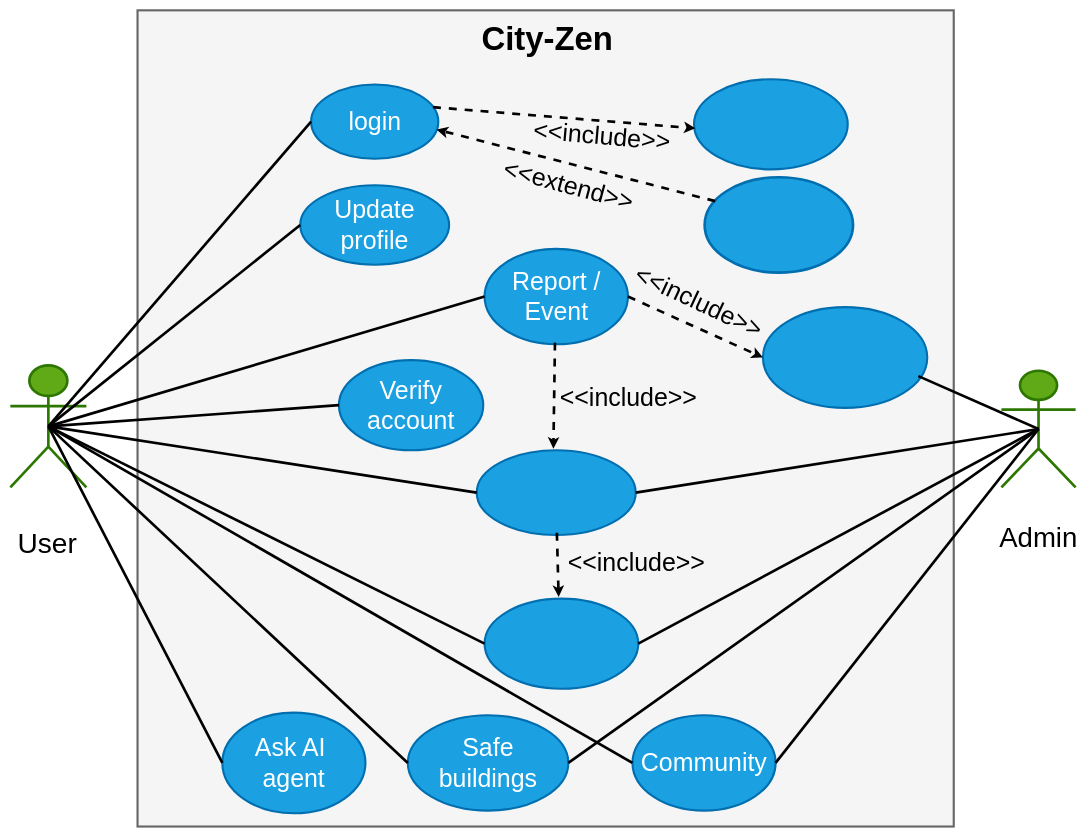
Some shapes in this 1090 by 836 pixel diagram are drawn without their labels. The shapes that lost their labels are listed below. From the top down, each one's box as (x1, y1, x2, y2) in pixels, then its label:
(693, 78, 849, 170): Verify user
(703, 176, 854, 274): Not veri fy
(762, 306, 928, 409): Analysis the reports
(475, 449, 637, 536): Show all post
(483, 597, 639, 690): Show in map
